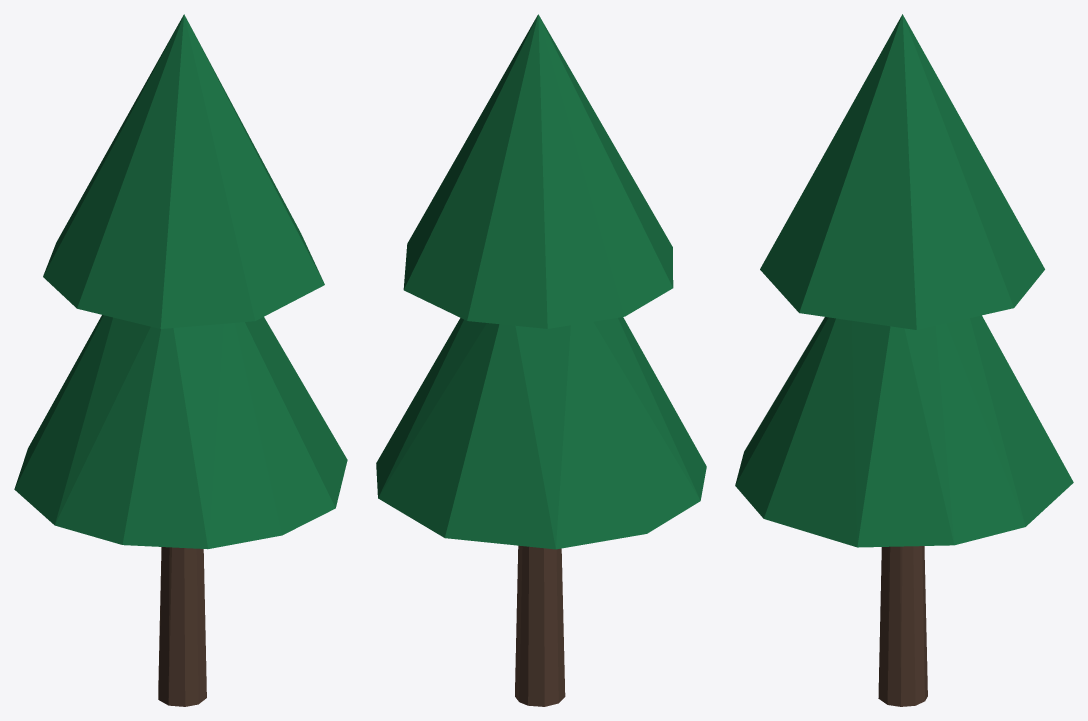
File: tree20.fbx
3 views of the same model, side by side, from view 1: azimuth 30°, elevation 25°; view 2: azimuth 150°, elevation 25°; view 3: azimuth 270°, elevation 25° (orthographic).
Parts seen in each view (by area): view 1: treetype20; view 2: treetype20; view 3: treetype20.
Boxes of the visible parts, left/top/right/bottom form: treetype20: left=14, top=14, right=347, bottom=706; treetype20: left=376, top=14, right=706, bottom=706; treetype20: left=735, top=14, right=1073, bottom=706.
Bounding box in the file's own units: 83.67 × 190 × 85.42.
